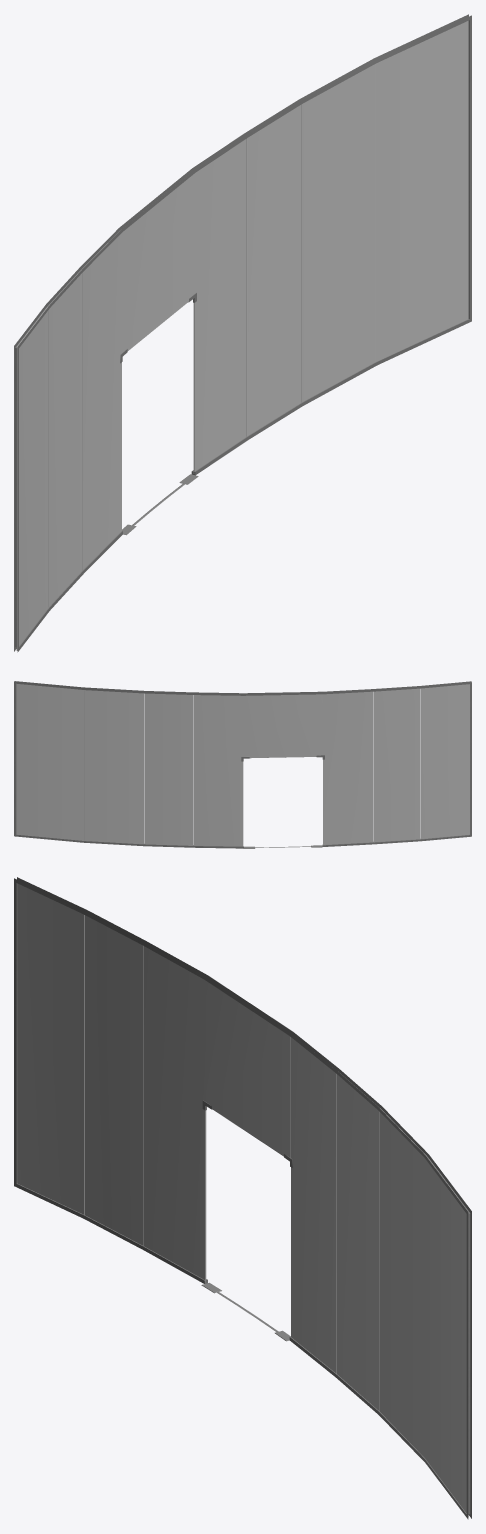
Rendered from SM_StoreFront_Atrium_04.fbx.
3 renders of one model, top to bottom at view 1: azimuth 30°, elevation 25°; view 2: azimuth 150°, elevation 25°; view 3: azimuth 270°, elevation 25°, orthographic. The views are drawn at different scales.
Parts seen in each view (by area): view 1: SM_StoreFront_Atrium_04_LOD0; view 2: SM_StoreFront_Atrium_04_LOD0; view 3: SM_StoreFront_Atrium_04_LOD0.
Part boxes in pixels (left/top/right/bottom): SM_StoreFront_Atrium_04_LOD0: left=14, top=14, right=471, bottom=652; SM_StoreFront_Atrium_04_LOD0: left=14, top=681, right=471, bottom=848; SM_StoreFront_Atrium_04_LOD0: left=14, top=877, right=471, bottom=1519.
Size of the model in its own units: 1003 by 580 by 430.
